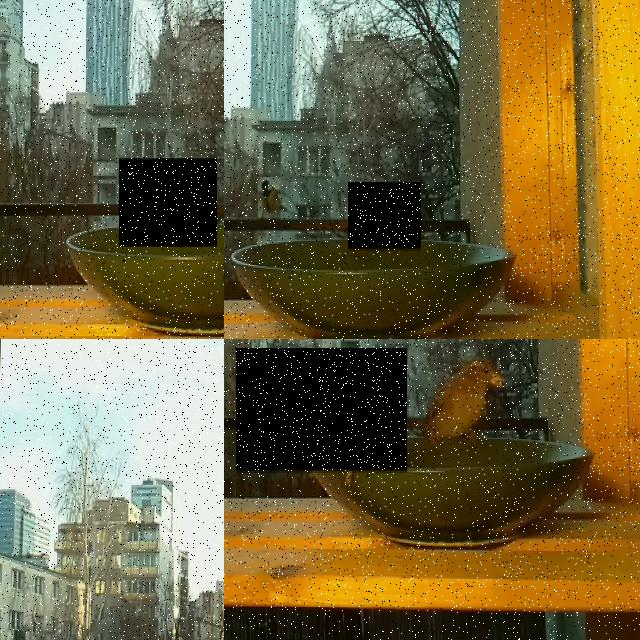Bogatka: (236, 348, 407, 472)
Wrobel: (119, 158, 217, 246), (417, 355, 506, 450), (348, 182, 421, 250)
